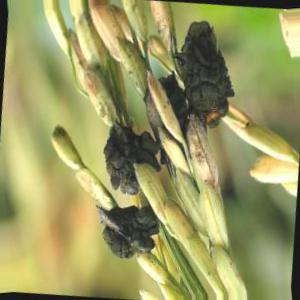False Smut: (184, 19, 227, 125), (99, 208, 152, 264), (111, 126, 152, 195)
